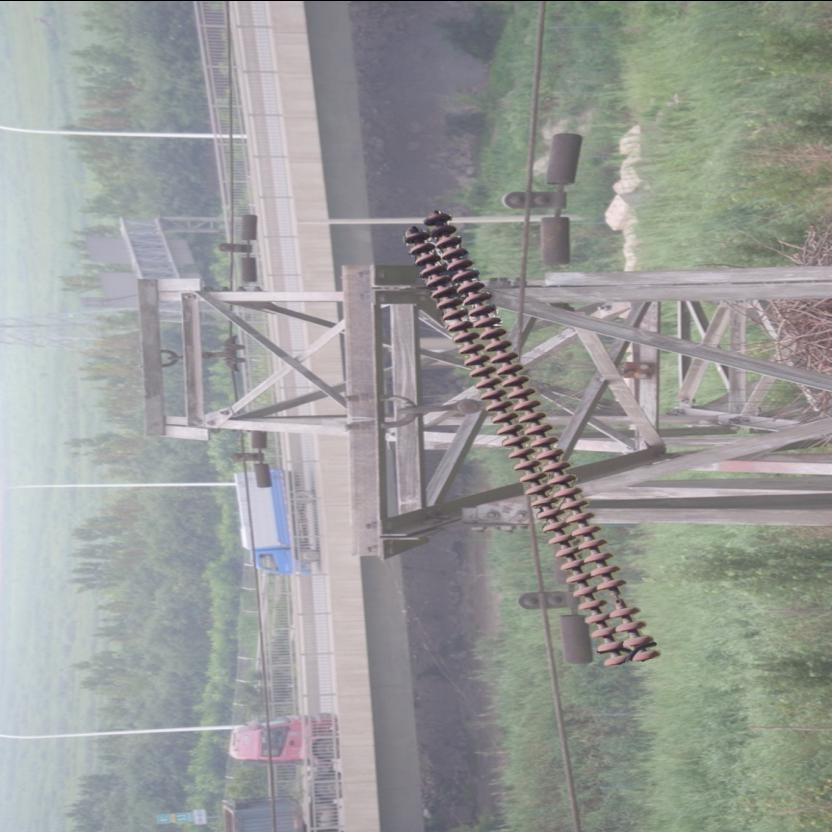defect: (592, 576, 642, 620)
